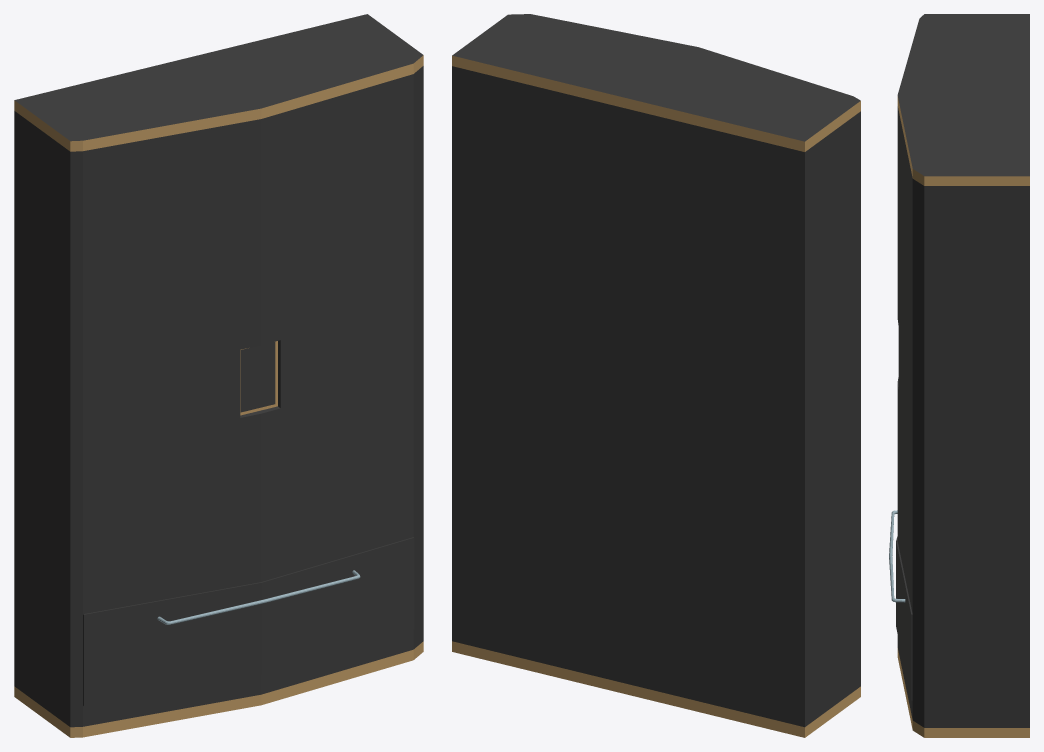
File: Wardrobe.fbx
The picture shows the model from 3 angles, left to right: view 1: azimuth 30°, elevation 25°; view 2: azimuth 150°, elevation 25°; view 3: azimuth 270°, elevation 25°; orthographic projection. The views are drawn at different scales.
Visible parts, largest first — view 1: Wardrobe; view 2: Wardrobe; view 3: Wardrobe.
Part boxes in pixels (left/top/right/bottom): Wardrobe: left=14, top=14, right=423, bottom=737; Wardrobe: left=452, top=14, right=860, bottom=737; Wardrobe: left=889, top=14, right=1029, bottom=737.
Bounding box in the file's own units: 121 × 195 × 44.29.
